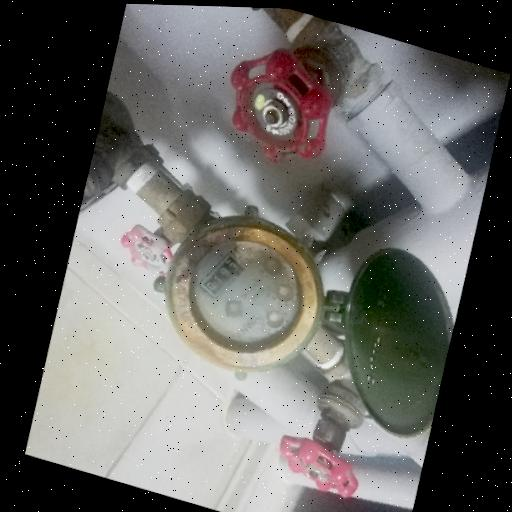0: (200, 275, 223, 295)
1: (207, 268, 230, 289)
3: (220, 254, 247, 278)
9: (213, 261, 236, 282)
border_water_meter_number: (192, 241, 252, 308)
